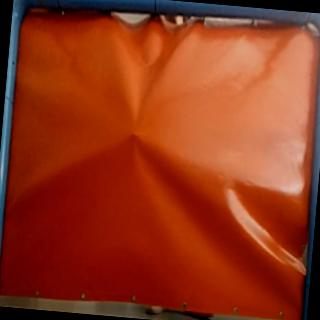Hit-hRxx: (126, 125, 142, 142)
